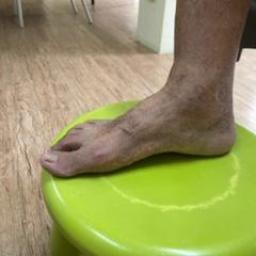Medial View -Right Foot-: (24, 48, 248, 186)
